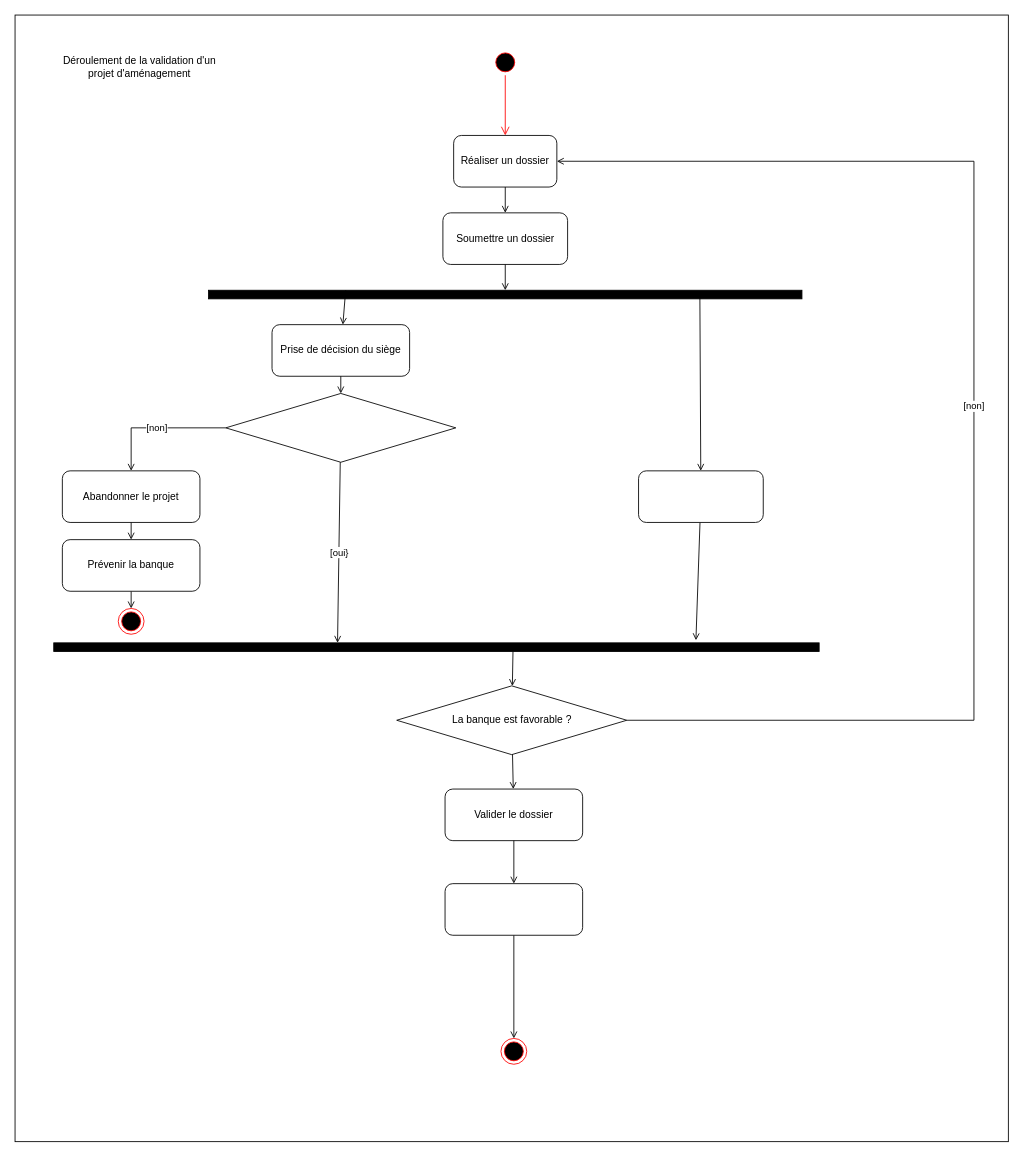
Some shapes in this 1023 by 1157 pixel diagram are drawn without their labels. The shapes that lost their labels are listed below. From the top down, each one's centre as x and y in pixels, then its label:
the point at 340,427: Le siège est favorable ?
the point at 700,496: Prise de décision de la banque
the point at 513,909: Financer le projet
